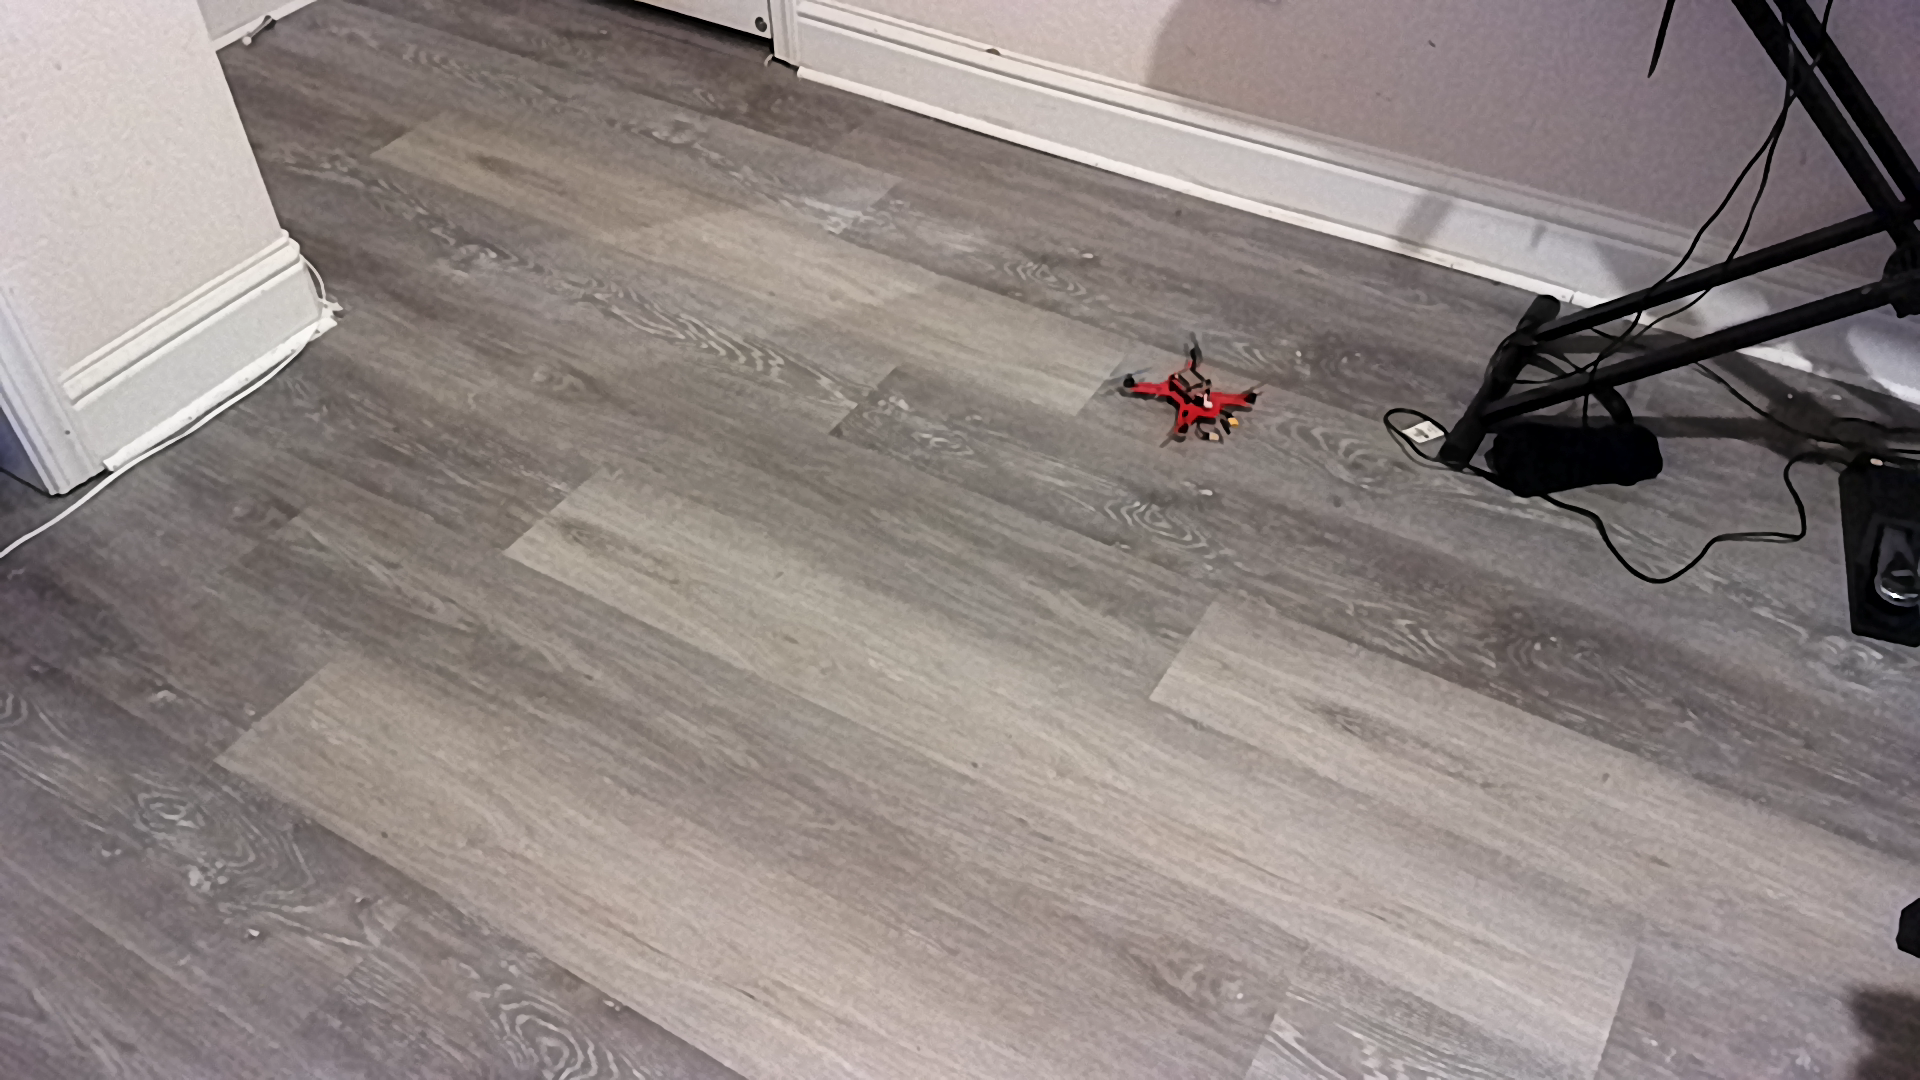drone: (1097, 330, 1294, 459)
